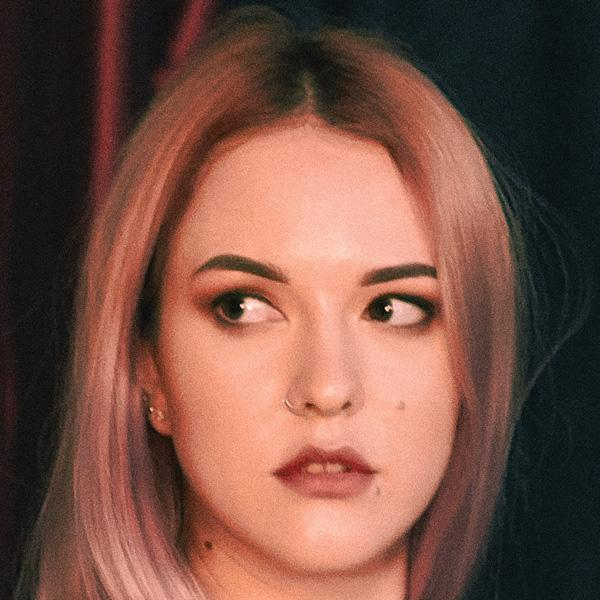Eyes: (196, 281, 296, 340), (354, 282, 441, 340)
